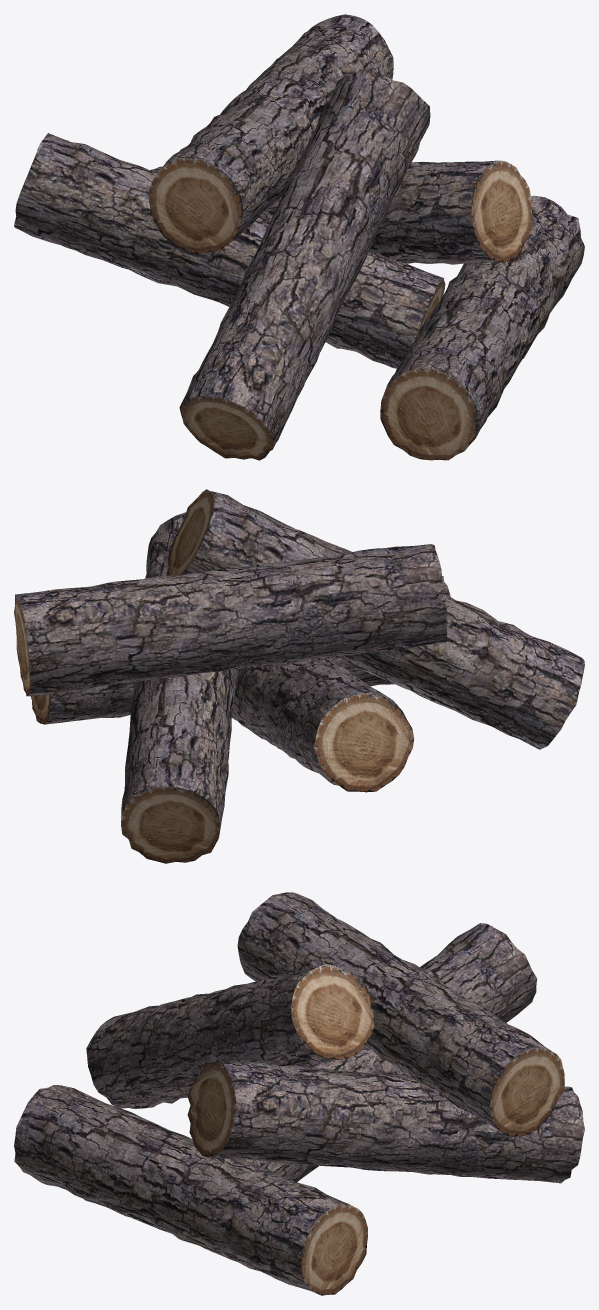
The model's file is Campfire-Logs.fbx.
The picture shows the model from 3 angles, top to bottom: view 1: azimuth 30°, elevation 25°; view 2: azimuth 150°, elevation 25°; view 3: azimuth 270°, elevation 25°; orthographic projection. The views are drawn at different scales.
Parts seen in each view (by area): view 1: Log4, Log2, Log5, Log3, Log1; view 2: Log3, Log4, Log1, Log2, Log5; view 3: Log5, Log1, Log3, Log4, Log2.
Part boxes in pixels (<box>): Log4: <box>179,70,430,460</box>; Log2: <box>14,133,445,368</box>; Log5: <box>380,195,584,460</box>; Log3: <box>148,14,393,253</box>; Log1: <box>150,160,532,264</box>; Log3: <box>14,544,447,696</box>; Log4: <box>166,489,584,749</box>; Log1: <box>121,512,238,863</box>; Log2: <box>231,657,414,792</box>; Log5: <box>31,576,450,724</box>; Log5: <box>14,1085,367,1295</box>; Log1: <box>187,1060,584,1183</box>; Log3: <box>237,892,564,1136</box>; Log4: <box>86,964,374,1108</box>; Log2: <box>243,923,537,1182</box>.
Size of the model in its own units: 1097 by 578 by 1190.
